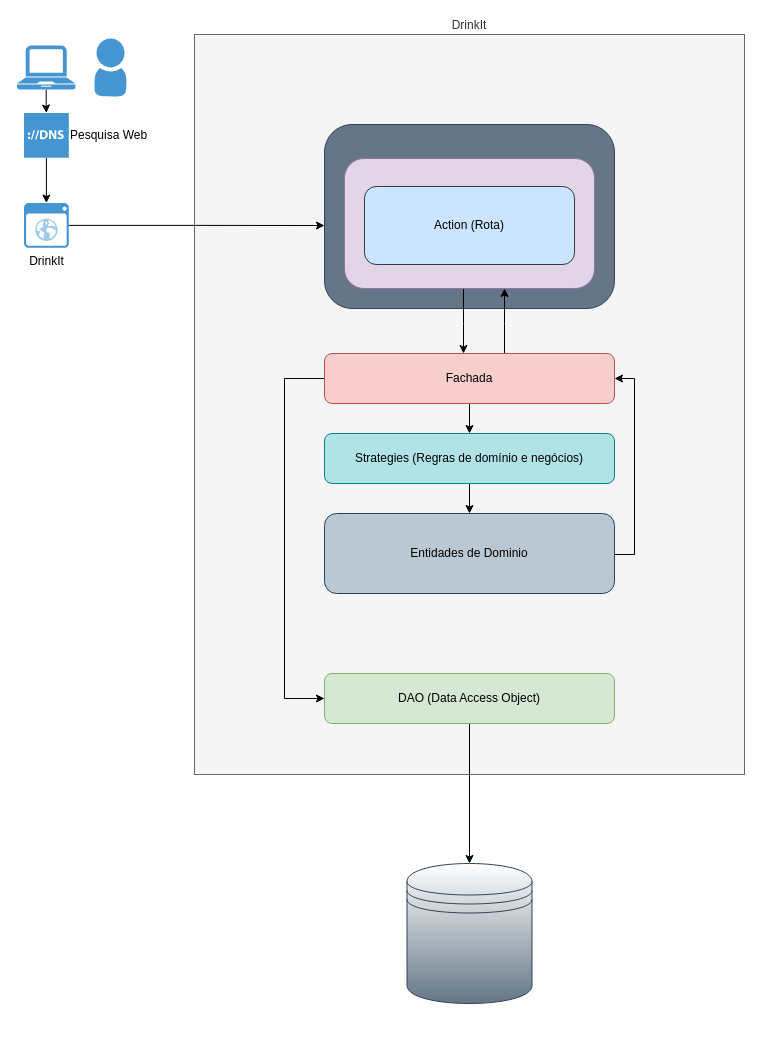
Image size: 762x1041. Some labels were removed from this diagram. The box of each missing label's shape, as (x1, y1, x2, y2) in pixels:
Base de Dados: (406, 862, 532, 1004)
Controller: (344, 158, 594, 288)
Usuário: (16, 45, 75, 89)
View: (324, 124, 614, 308)
